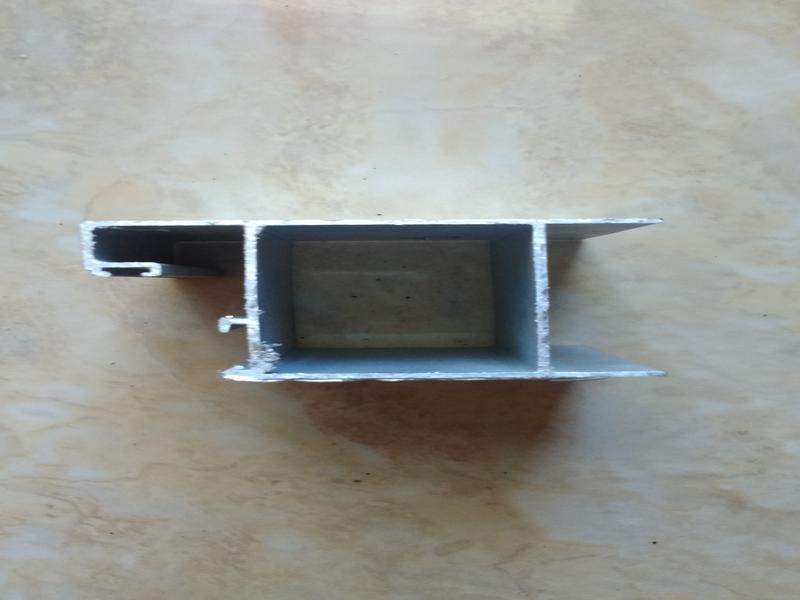Aluminium_2: (63, 194, 699, 410)
